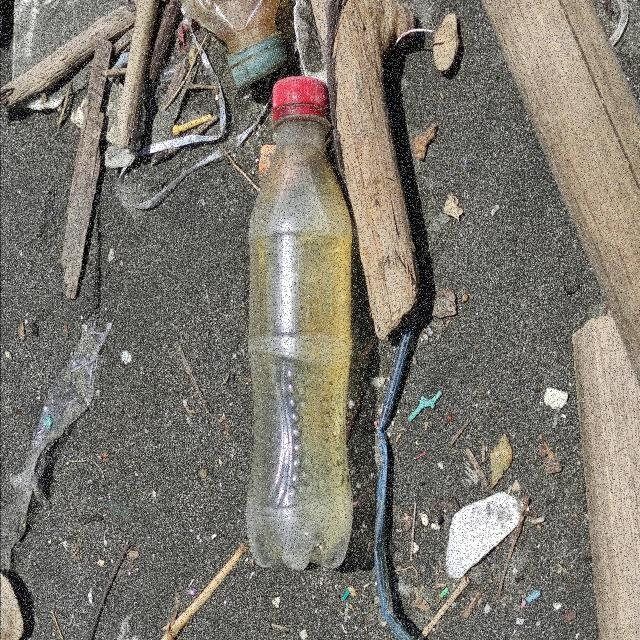plastic_waste: (245, 77, 354, 572), (179, 1, 286, 89)
wood_waste: (572, 336, 640, 640), (574, 51, 640, 304)
